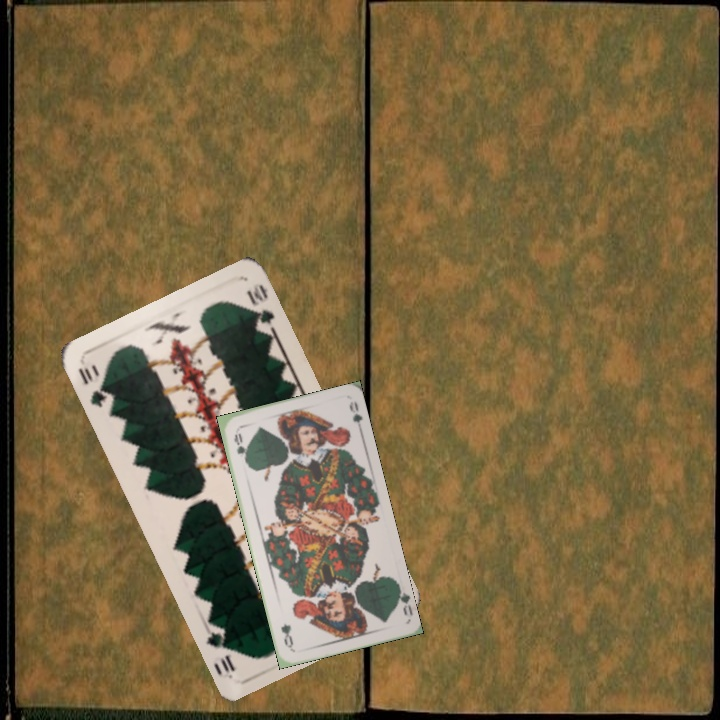G10: (74, 363, 111, 410)
GO: (392, 580, 414, 618), (230, 429, 251, 466)
